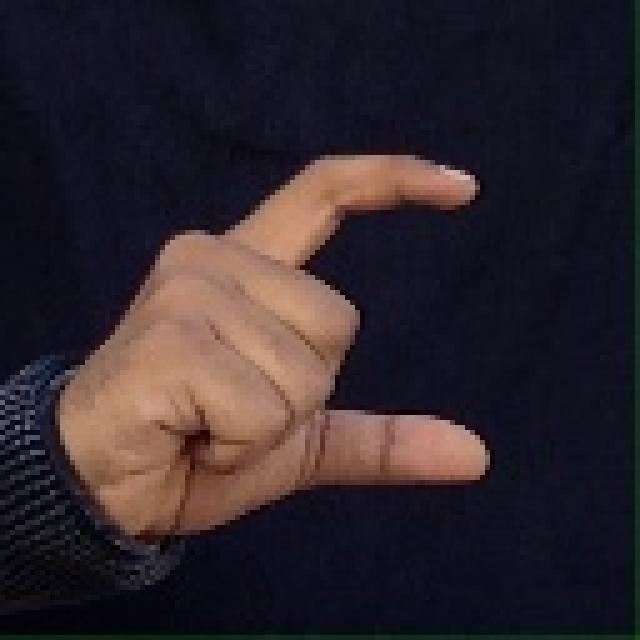Alphabet-C: (49, 143, 501, 534)
